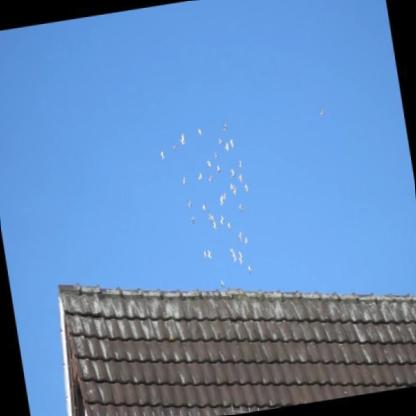bird: (229, 246, 238, 265), (205, 209, 215, 223), (237, 249, 245, 266), (236, 201, 245, 215), (179, 130, 187, 145), (217, 192, 225, 207), (189, 213, 197, 227), (236, 230, 244, 244), (228, 137, 237, 149), (237, 172, 246, 184), (180, 175, 188, 188), (243, 235, 251, 248), (219, 278, 227, 291), (204, 160, 213, 171), (185, 199, 193, 211), (205, 248, 213, 260), (218, 213, 225, 226), (211, 220, 219, 231), (222, 121, 229, 133), (237, 158, 244, 170), (216, 163, 223, 175), (231, 168, 238, 180), (231, 185, 238, 197), (221, 191, 228, 203), (248, 263, 255, 275), (196, 127, 204, 137), (207, 173, 214, 184), (226, 221, 233, 232), (197, 171, 203, 183), (224, 142, 231, 152), (213, 151, 220, 161), (243, 184, 250, 194), (159, 150, 166, 159), (200, 203, 207, 212), (228, 182, 233, 192), (203, 249, 208, 259), (219, 138, 225, 146), (173, 145, 176, 149)
